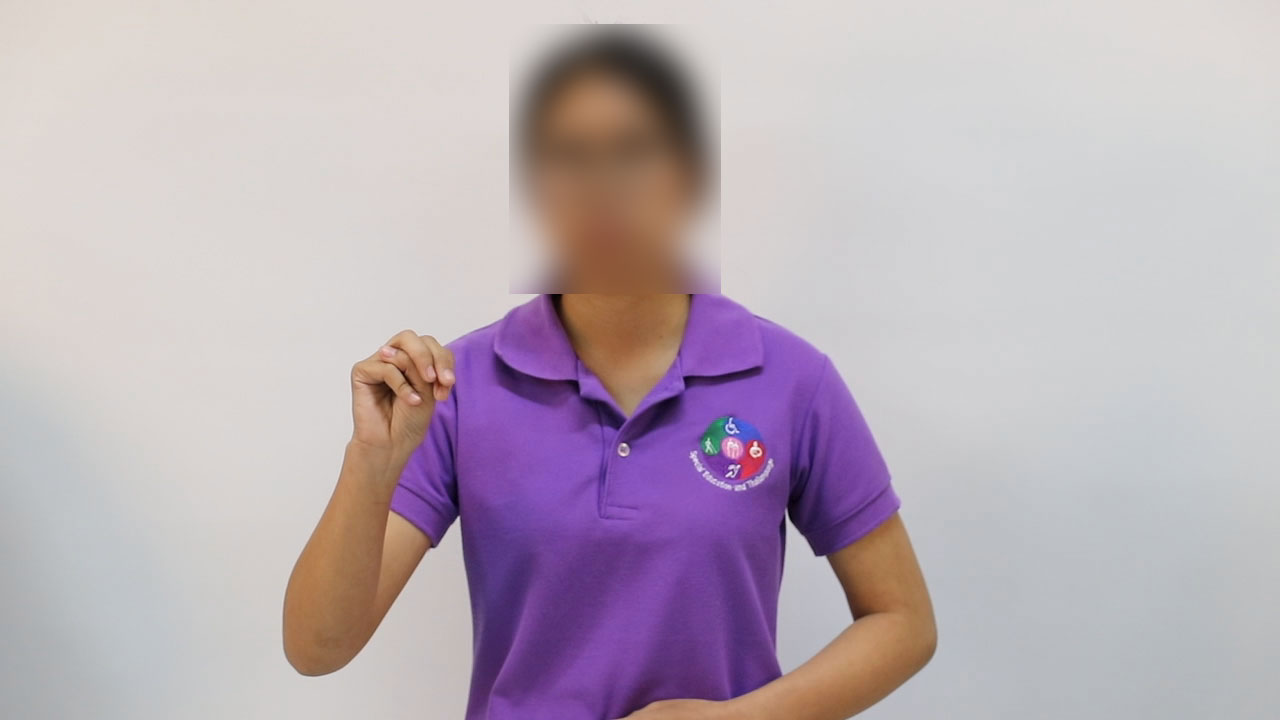mor: (337, 303, 466, 471)
